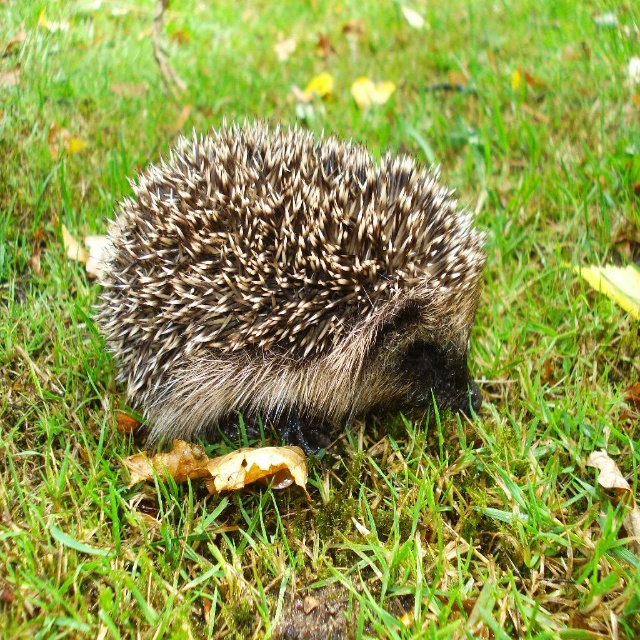Hedgehog: (90, 113, 482, 439)
